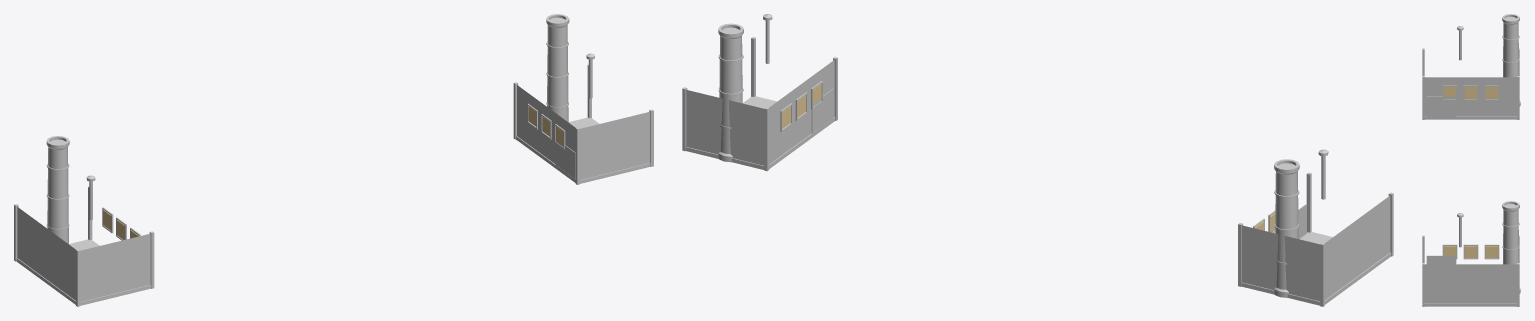
The model's file is FoundryPair.glb.
3 renders of one model, left to right at view 1: azimuth 30°, elevation 25°; view 2: azimuth 150°, elevation 25°; view 3: azimuth 270°, elevation 25°, orthographic. The views are drawn at different scales.
Parts seen in each view (by area): view 1: Body, Glow; view 2: Body, Glow; view 3: Body, Glow.
Part boxes in pixels (box(x1,y1,x2,y2)): Body: box(14, 14, 653, 306); Glow: box(103, 106, 563, 239); Body: box(682, 14, 1393, 306); Glow: box(782, 84, 1275, 232); Body: box(1422, 14, 1520, 306); Glow: box(1443, 87, 1498, 257).
Bounding box in the file's own units: 242 × 46 × 46.7.
